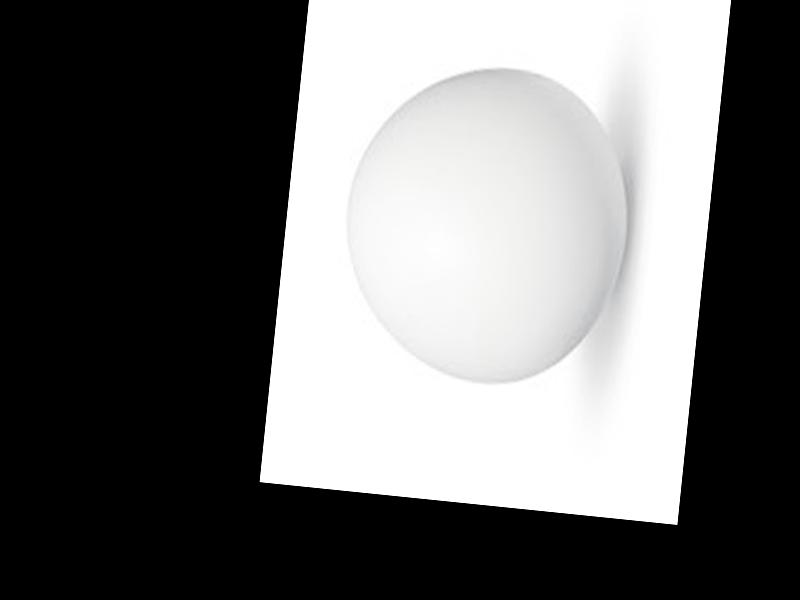Eggs: (329, 58, 639, 394)
